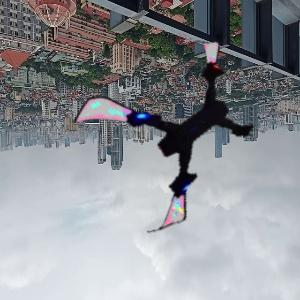drone: (91, 55, 265, 229)
